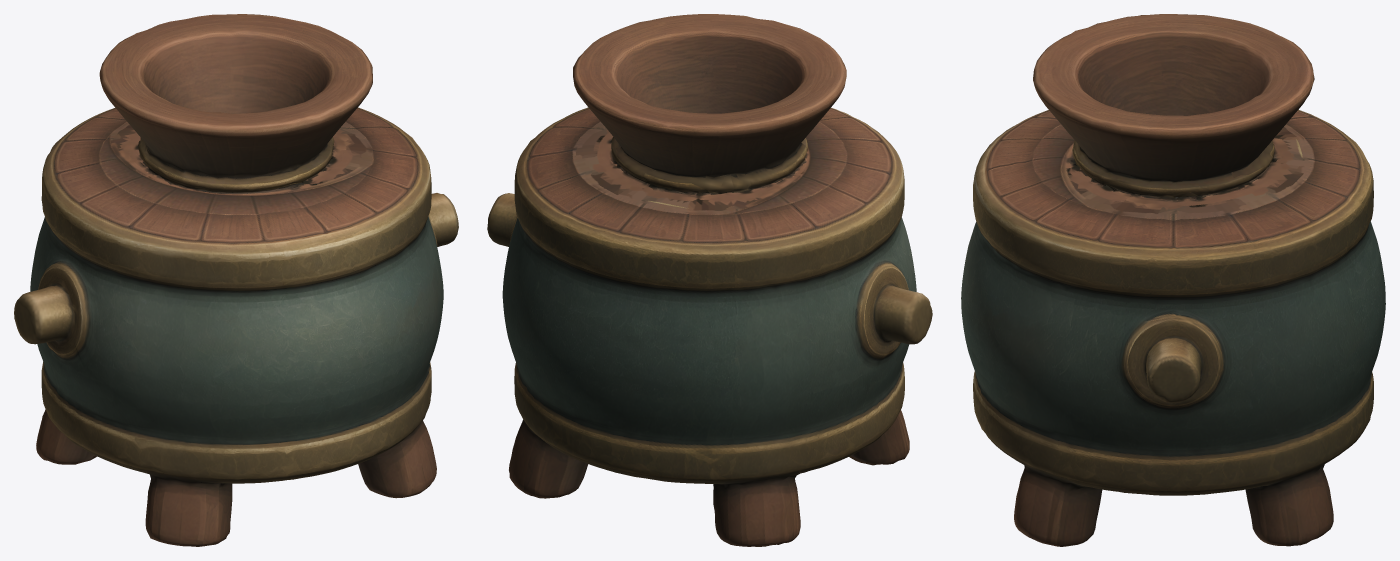
Rendered from Prop_IngredientMixer.fbx.
The picture shows the model from 3 angles, left to right: view 1: azimuth 30°, elevation 25°; view 2: azimuth 150°, elevation 25°; view 3: azimuth 270°, elevation 25°; orthographic projection. The views are drawn at different scales.
Parts seen in each view (by area): view 1: texture_mapping; view 2: texture_mapping; view 3: texture_mapping.
Boxes of the visible parts, box(x1,y1,x2,y2) form: texture_mapping: box(14, 14, 458, 546); texture_mapping: box(487, 14, 932, 546); texture_mapping: box(961, 14, 1385, 546).
Bounding box in the file's own units: 0.9993 × 0.8413 × 0.893.
Materials: 1 (1 with a texture image).
